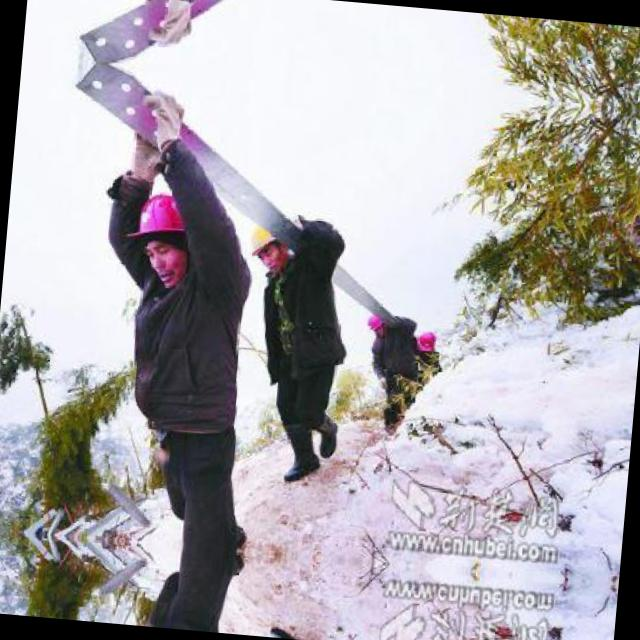helmet: (117, 184, 191, 297), (242, 220, 292, 272), (412, 326, 437, 357), (366, 308, 391, 337)
